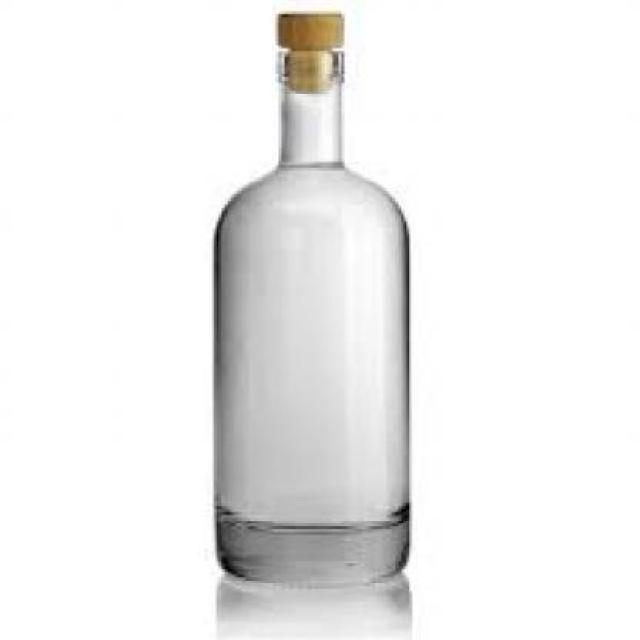kaca: (211, 48, 406, 583)
